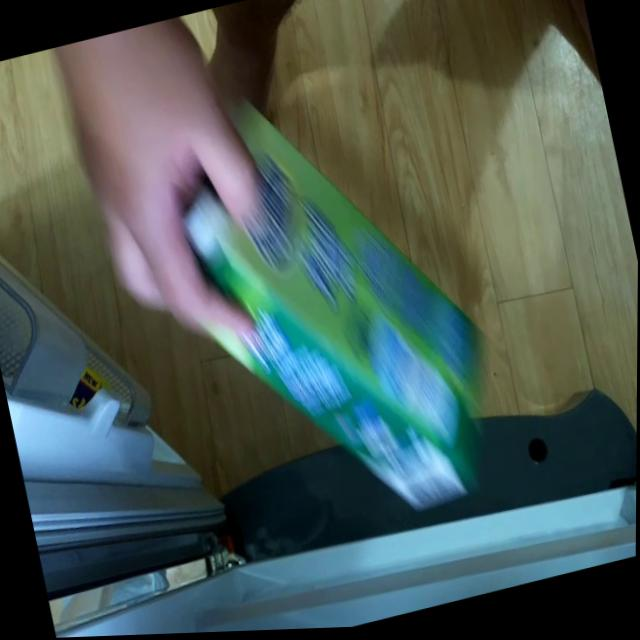milk: (146, 55, 515, 555)
